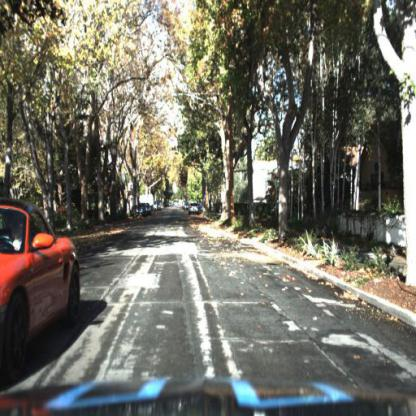car: (1, 195, 82, 390), (134, 200, 152, 219), (189, 197, 202, 219)
